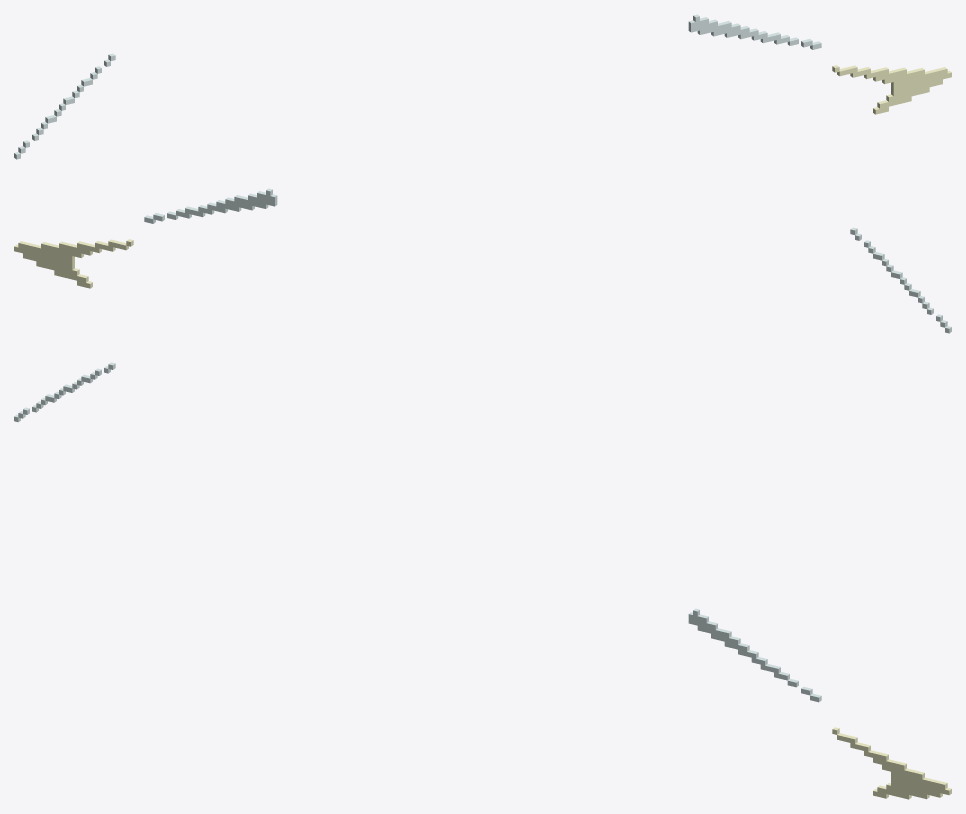
Rendered from Fight_746_2_08_fx.obj.
The picture shows the model from 3 angles, top to bottom: view 1: azimuth 30°, elevation 25°; view 2: azimuth 150°, elevation 25°; view 3: azimuth 330°, elevation 25°; orthographic projection.
Bounding box in the file's own units: 20.8 × 5.2 × 0.1.
Materials: 1 (1 with a texture image).
